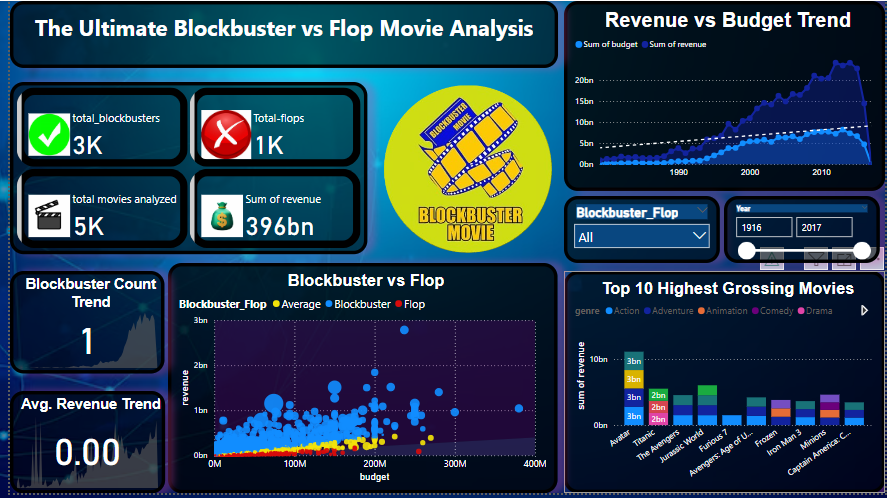

This screenshot's page, from the dashboard's own definition file:
{"tool":"powerbi","page":{"name":"Blockbuster vs Flop Movies Analysis","canvas":[1280,720],"ordinal":1},"visuals":[{"type":"columnChart","title":" Top 10 Highest Grossing Movies","fields":{"Category":["buget_revenue.title"],"Y":["Sum(buget_revenue.revenue)"],"Series":["movies_genres.genre"]},"box":[810.7,395.1,469.8,324.9],"z":0},{"type":"lineChart","title":"Revenue vs Budget Trend","fields":{"Category":["buget_revenue.release_date.Variation.Date Hierarchy.Year"],"Y":["Sum(buget_revenue.budget)","Sum(buget_revenue.revenue)"]},"box":[810.7,0,469.8,278],"z":1000},{"type":"slicer","fields":{"Values":["buget_revenue.Blockbuster_Flop"]},"box":[810,285,228.3,98.3],"z":2000},{"type":"textbox","box":[0,0,802,98],"z":3000},{"type":"scatterChart","title":"Blockbuster vs Flop","fields":{"X":["buget_revenue.budget"],"Y":["buget_revenue.revenue"],"Size":["Sum(buget_revenue.popularity)"],"Series":["buget_revenue.Blockbuster_Flop"]},"box":[231.7,383.3,570,336.7],"z":4000},{"type":"cardVisual","title":"Average Revenue per Movie","fields":{"Data":["buget_revenue.total_blockbusters","buget_revenue.Total-flops","CountNonNull(buget_revenue.movie_id)","Sum(buget_revenue.revenue)"]},"box":[0,118.3,523.3,251.7],"z":5000},{"type":"slicer","fields":{"Values":["power_bi_movies_dataset.release_date.Variation.Date Hierarchy.Year"]},"box":[1045,285,228.3,98.3],"z":6000},{"type":"kpi","title":" Avg. Revenue Trend","fields":{"Indicator":["Avg(buget_revenue.revenue)"],"TrendLine":["buget_revenue.release_date.Variation.Date Hierarchy.Year"]},"box":[0,570,226.7,150],"z":7000},{"type":"kpi","title":"Blockbuster Count Trend","fields":{"Indicator":["CountNonNull(buget_revenue.movie_id)"],"TrendLine":["buget_revenue.release_date.Variation.Date Hierarchy.Year"]},"box":[0,395,226,150],"z":8000},{"type":"image","box":[531.7,118.3,278.3,255],"z":9000}]}

Visuals, with their boxes in screenshot pixels (x1, y1, x2, y2), scaled from the page's 1280x720 canvas onto the 887x498 screenshot:
" Top 10 Highest Grossing Movies" columnChart: (562,273,886,497)
"Revenue vs Budget Trend" lineChart: (562,0,886,192)
slicer - buget_revenue.Blockbuster_Flop: (561,197,720,265)
textbox: (0,0,556,68)
"Blockbuster vs Flop" scatterChart: (161,265,556,497)
"Average Revenue per Movie" cardVisual: (0,82,363,256)
slicer - power_bi_movies_dataset.release_date.Variation.Date Hierarchy.Year: (724,197,882,265)
" Avg. Revenue Trend" kpi: (0,394,157,497)
"Blockbuster Count Trend" kpi: (0,273,157,377)
image: (368,82,561,258)
